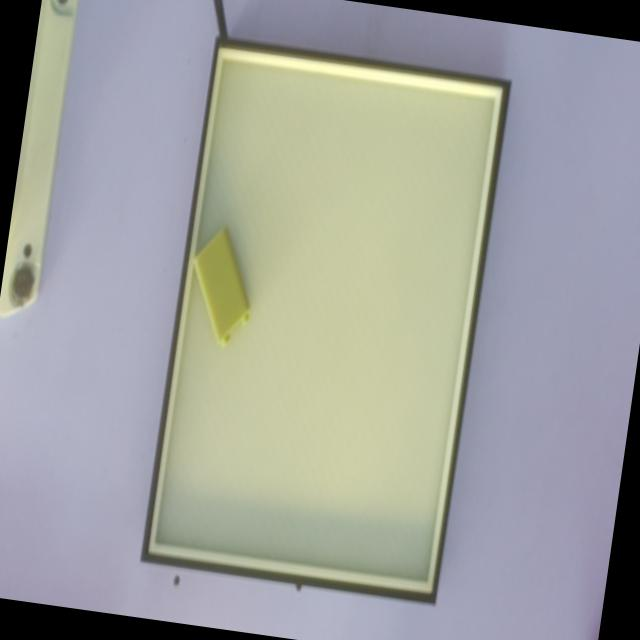bateria: (193, 227, 252, 347)
mesa: (141, 39, 511, 605)
